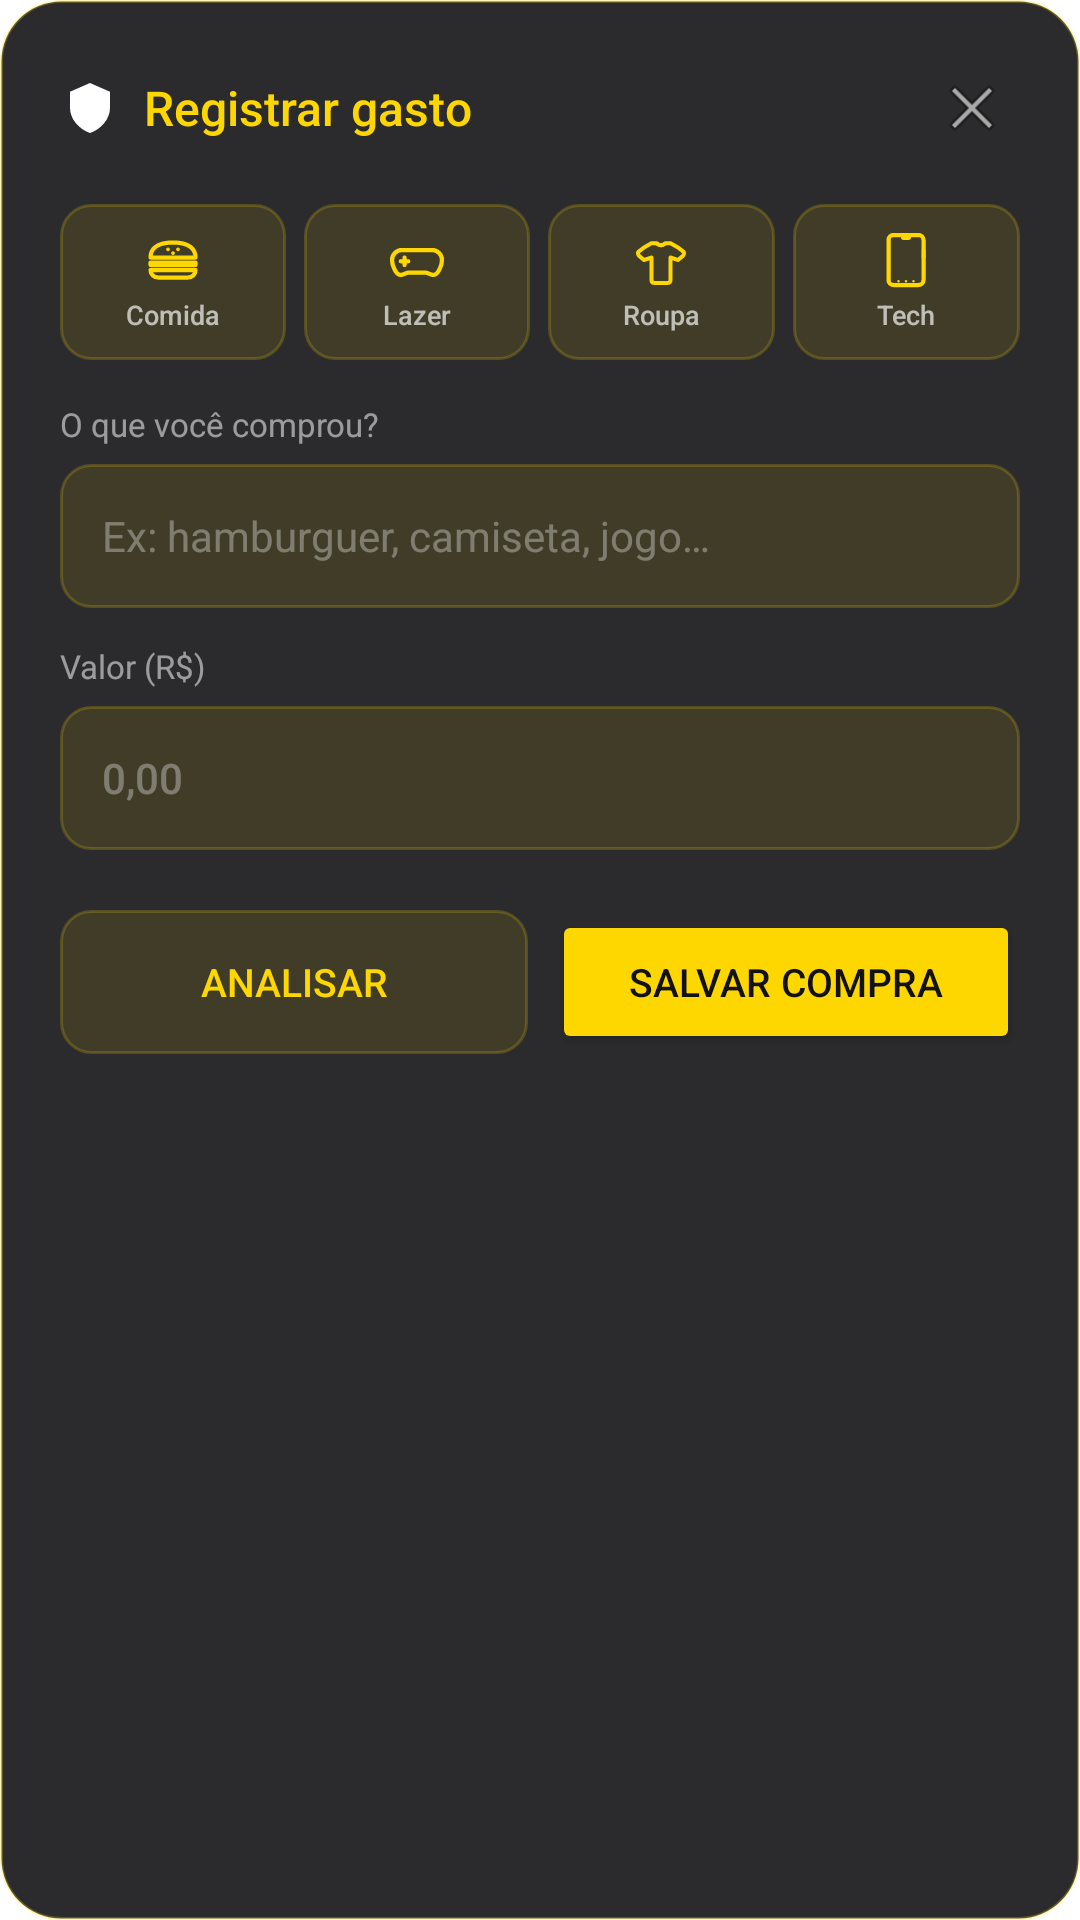

Named icons in this screenshot (1080 × 1920) and their bounding boxes, (x1, y1, x2, y2):
Fechar: (952, 88, 992, 128)
